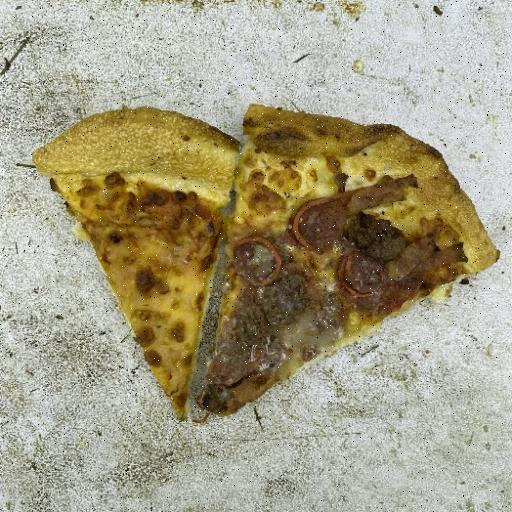Waste: (30, 101, 500, 423), (30, 105, 240, 421)
